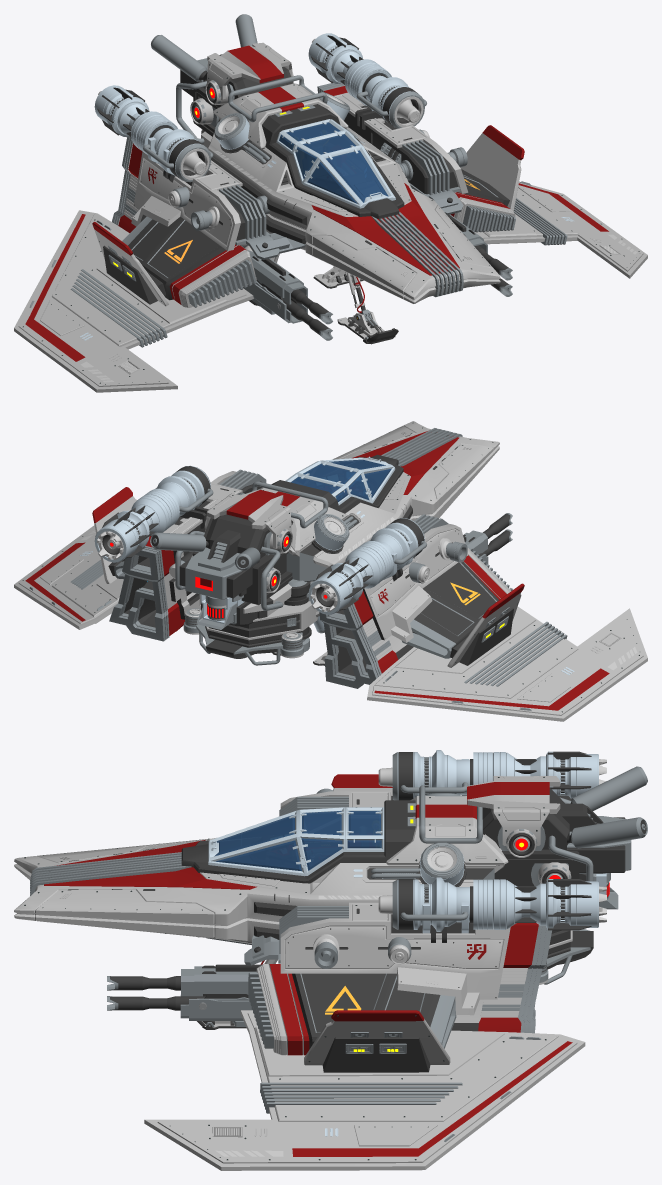
File: no_mans_sky_-_utopia_speeder.glb
The picture shows the model from 3 angles, top to bottom: view 1: azimuth 30°, elevation 25°; view 2: azimuth 150°, elevation 25°; view 3: azimuth 270°, elevation 25°; orthographic projection. The views are drawn at different scales.
Parts seen in each view (by area): view 1: Utopia Speeder; view 2: Utopia Speeder; view 3: Utopia Speeder.
Boxes of the visible parts, x1,y1,x2,y2 form: Utopia Speeder: [14, 14, 647, 392]; Utopia Speeder: [14, 421, 647, 721]; Utopia Speeder: [14, 750, 647, 1170].
Bounding box in the file's own units: 34.9 × 11.48 × 28.47.
